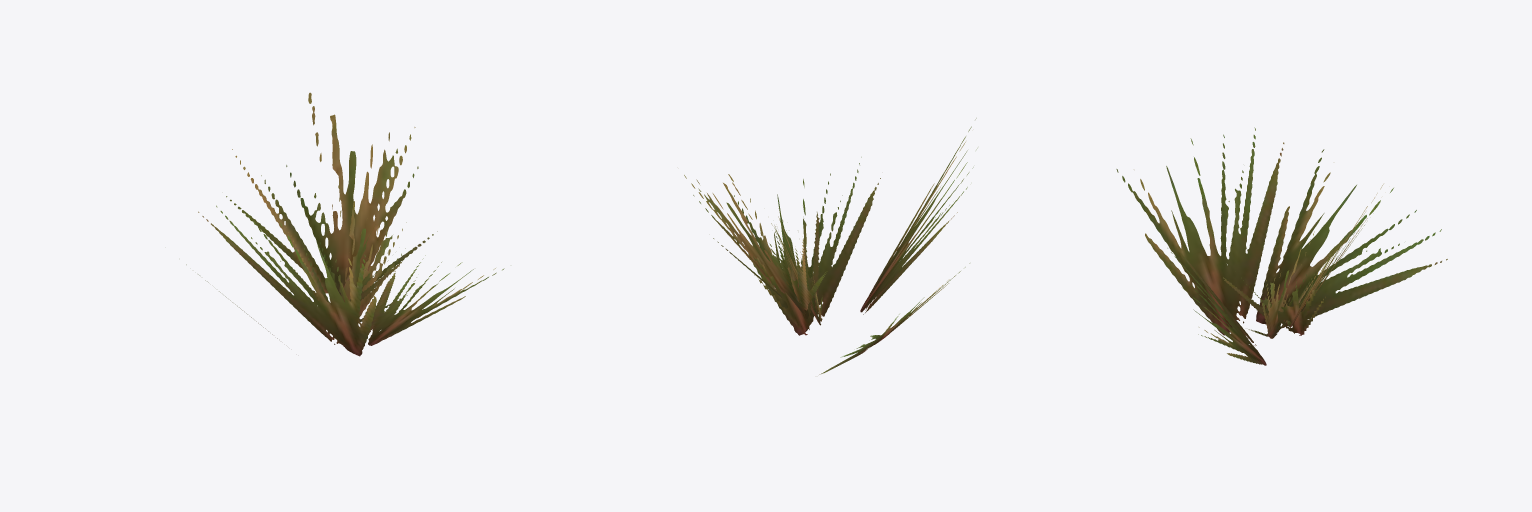
File: kusa.lite.glb
3 renders of one model, left to right at view 1: azimuth 30°, elevation 25°; view 2: azimuth 150°, elevation 25°; view 3: azimuth 270°, elevation 25°, orthographic. The views are drawn at different scales.
Visible parts, largest first — view 1: v2_lod1, v1_lod1; view 2: v2_lod1, v1_lod1, v0_lod1; view 3: v1_lod1, v2_lod1, v0_lod1.
Part boxes in pixels (left/top/right/bottom): v2_lod1: left=186, top=92, right=504, bottom=345; v1_lod1: left=198, top=182, right=407, bottom=356; v2_lod1: left=684, top=157, right=969, bottom=374; v1_lod1: left=771, top=118, right=977, bottom=325; v0_lod1: left=753, top=212, right=819, bottom=335; v1_lod1: left=1116, top=127, right=1327, bottom=338; v2_lod1: left=1167, top=149, right=1447, bottom=365; v0_lod1: left=1223, top=277, right=1325, bottom=335.
Size of the model in its own units: 1.08 by 0.8426 by 1.05.
1 material, 1 textured.
